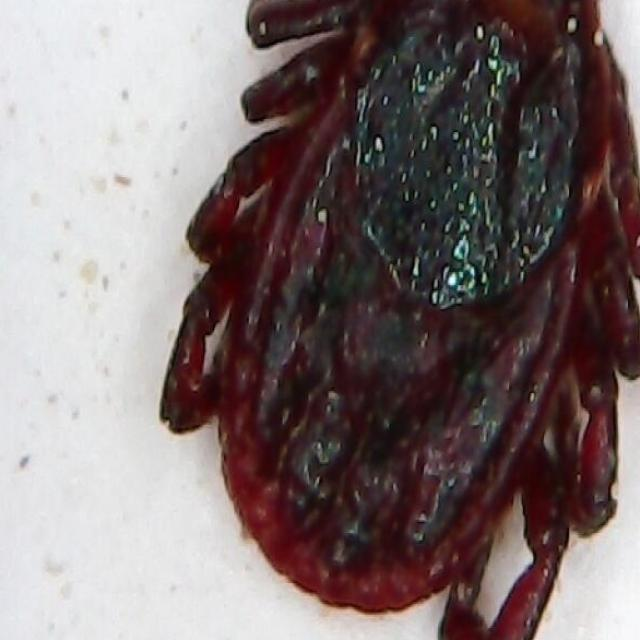Rhipicephalus Sanguineus-F: (158, 0, 640, 640)
